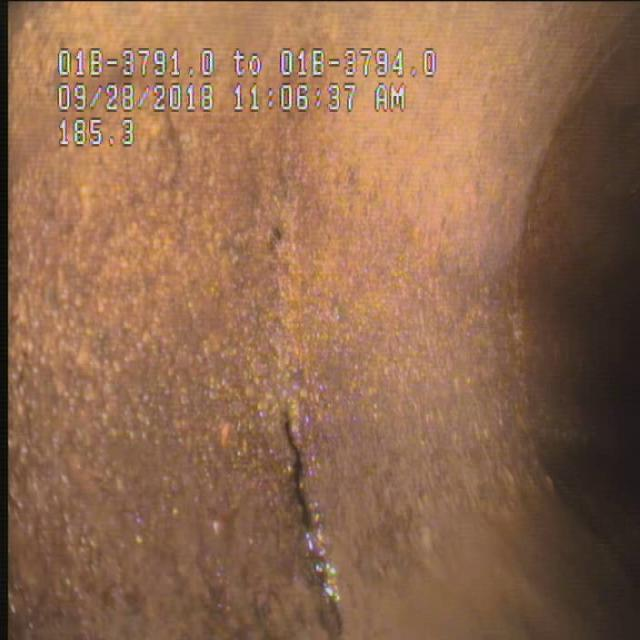Crack: (245, 182, 361, 628)
